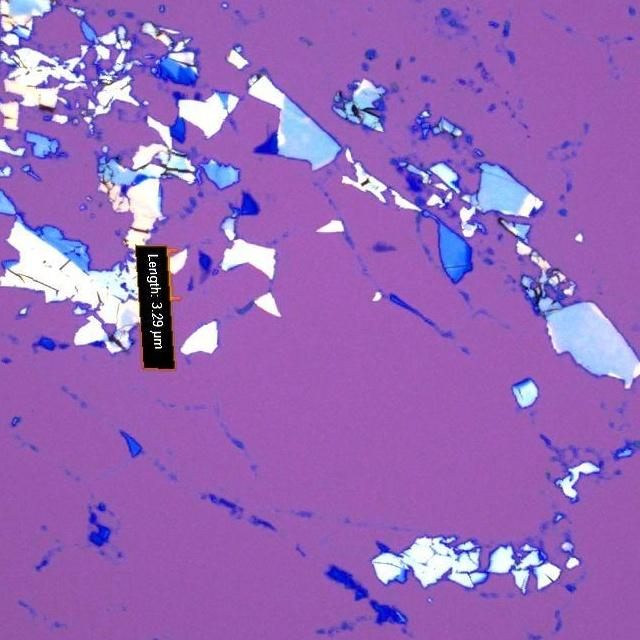monolayer-eWW4: (198, 266, 208, 284)
